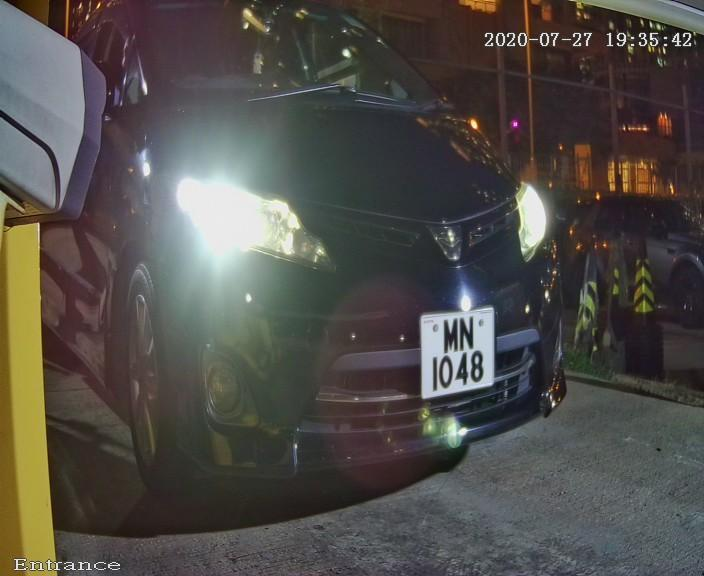privatecar: (82, 3, 598, 517)
